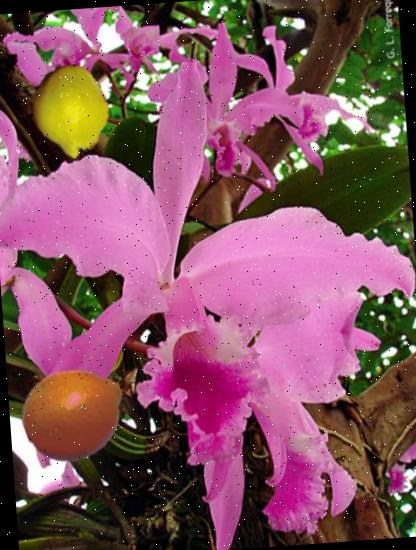Quince: (22, 62, 121, 161)
Tangelo: (19, 358, 130, 469)
